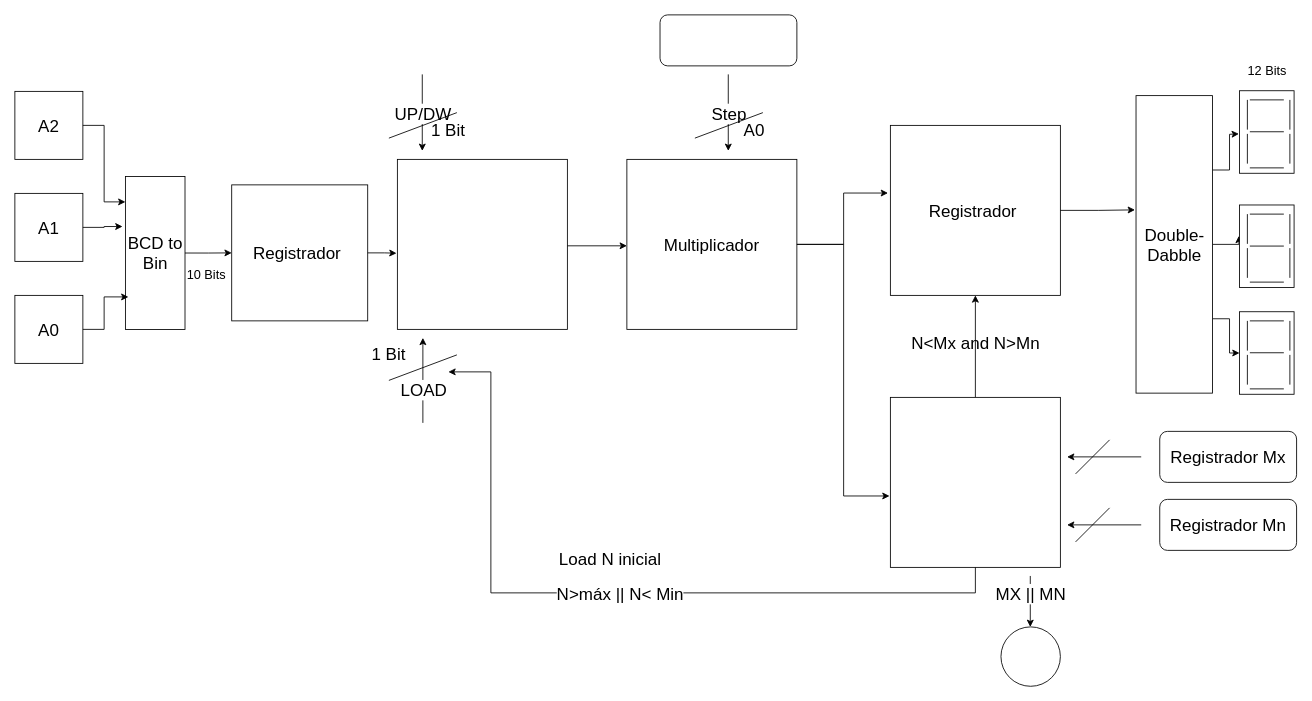
This 1312x701 diagram has some shape labels left out. Each missing label, with the centre of its shape:
Comparadores: point 975,482
COUNTER: point 482,244
LED: point 1030,656
Registrador Step: point 728,40
